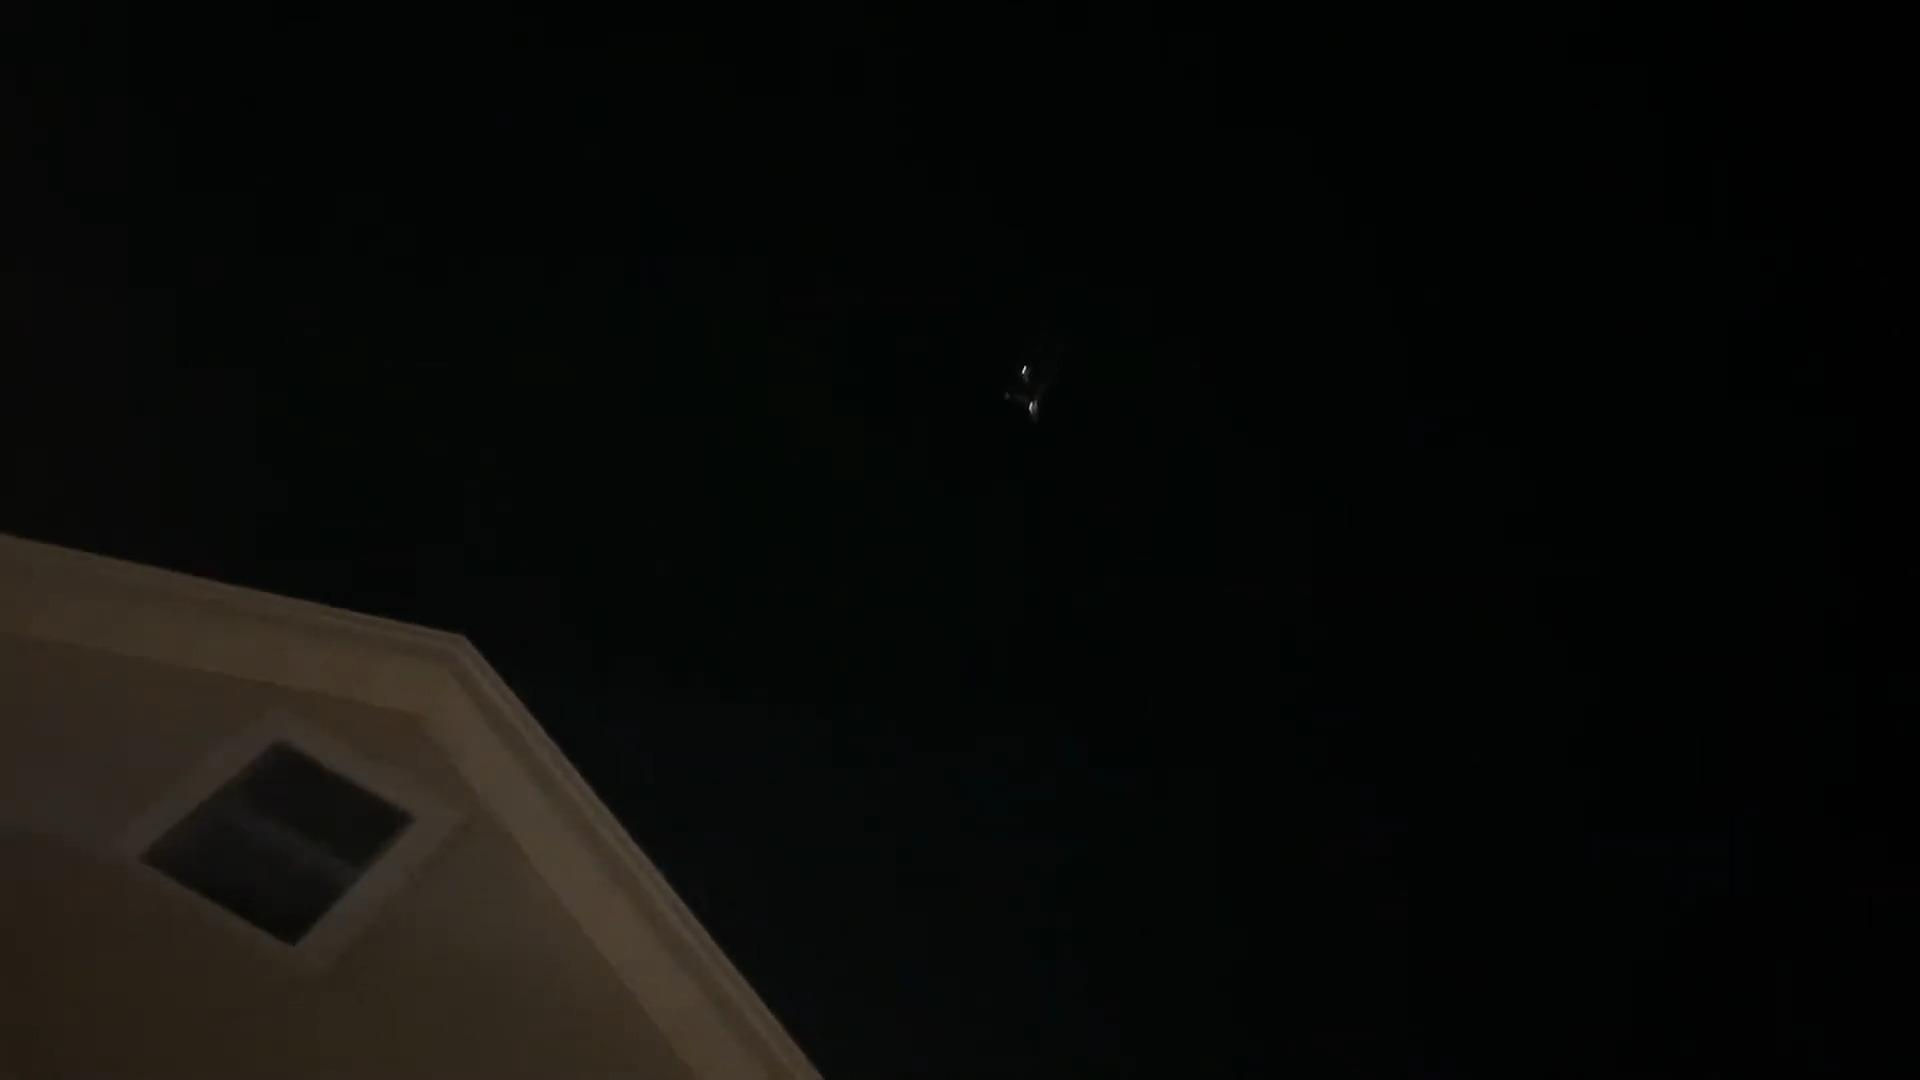Plane: (975, 345, 1077, 439)
